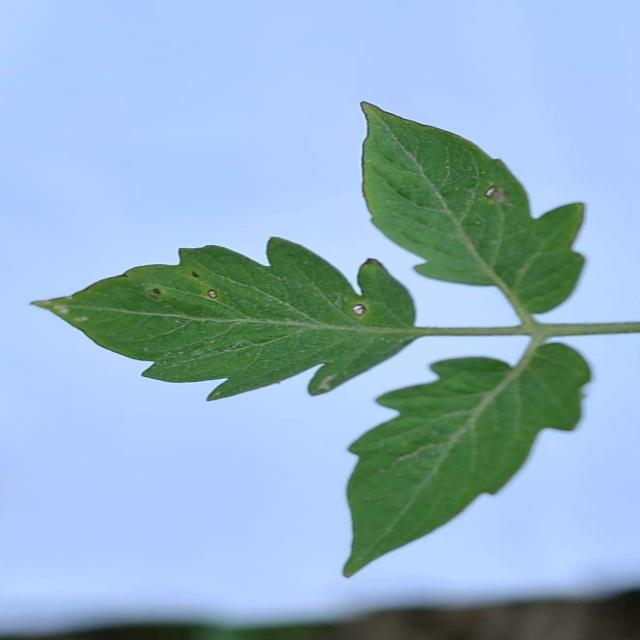infected: (126, 266, 431, 339), (383, 166, 549, 244)
